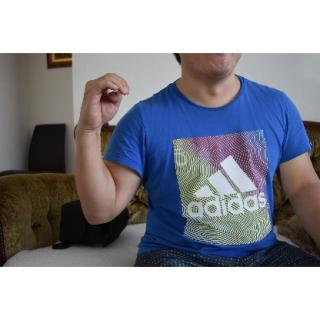JEEM: (75, 70, 136, 136)
